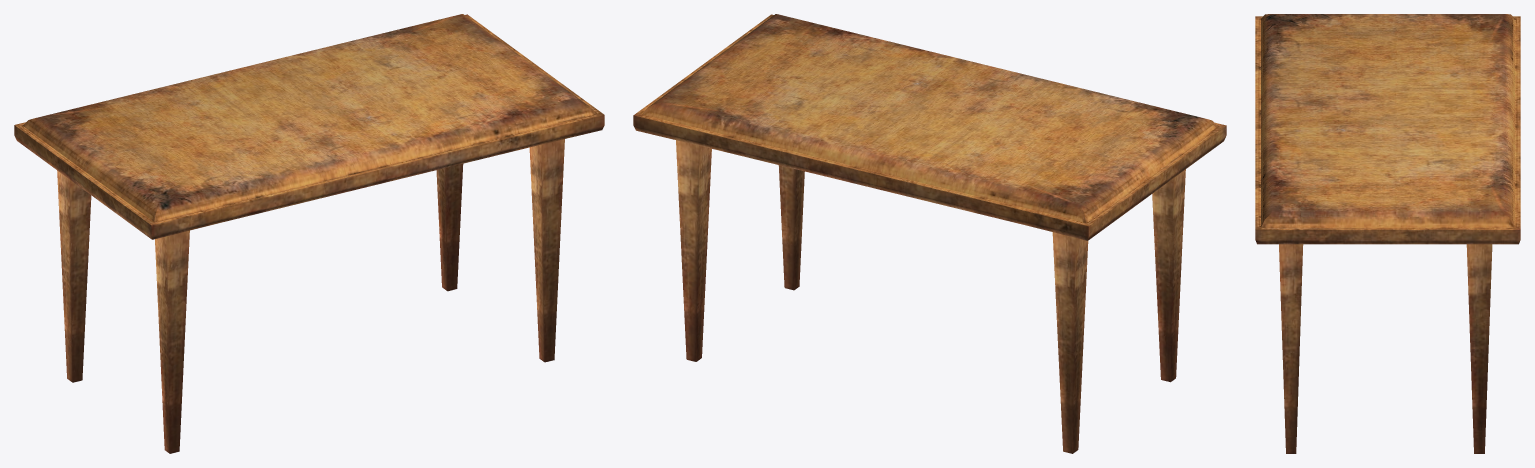
The model's file is writing-desk.glb.
The picture shows the model from 3 angles, left to right: view 1: azimuth 30°, elevation 25°; view 2: azimuth 150°, elevation 25°; view 3: azimuth 270°, elevation 25°; orthographic projection. The views are drawn at different scales.
Parts seen in each view (by area): view 1: writing-desk; view 2: writing-desk; view 3: writing-desk.
Boxes of the visible parts, x1,y1,x2,y2 form: writing-desk: [14, 14, 604, 453]; writing-desk: [633, 14, 1226, 453]; writing-desk: [1255, 14, 1520, 453].
Bounding box in the file's own units: 1.62 × 0.885 × 0.85.
1 material, 1 textured.
